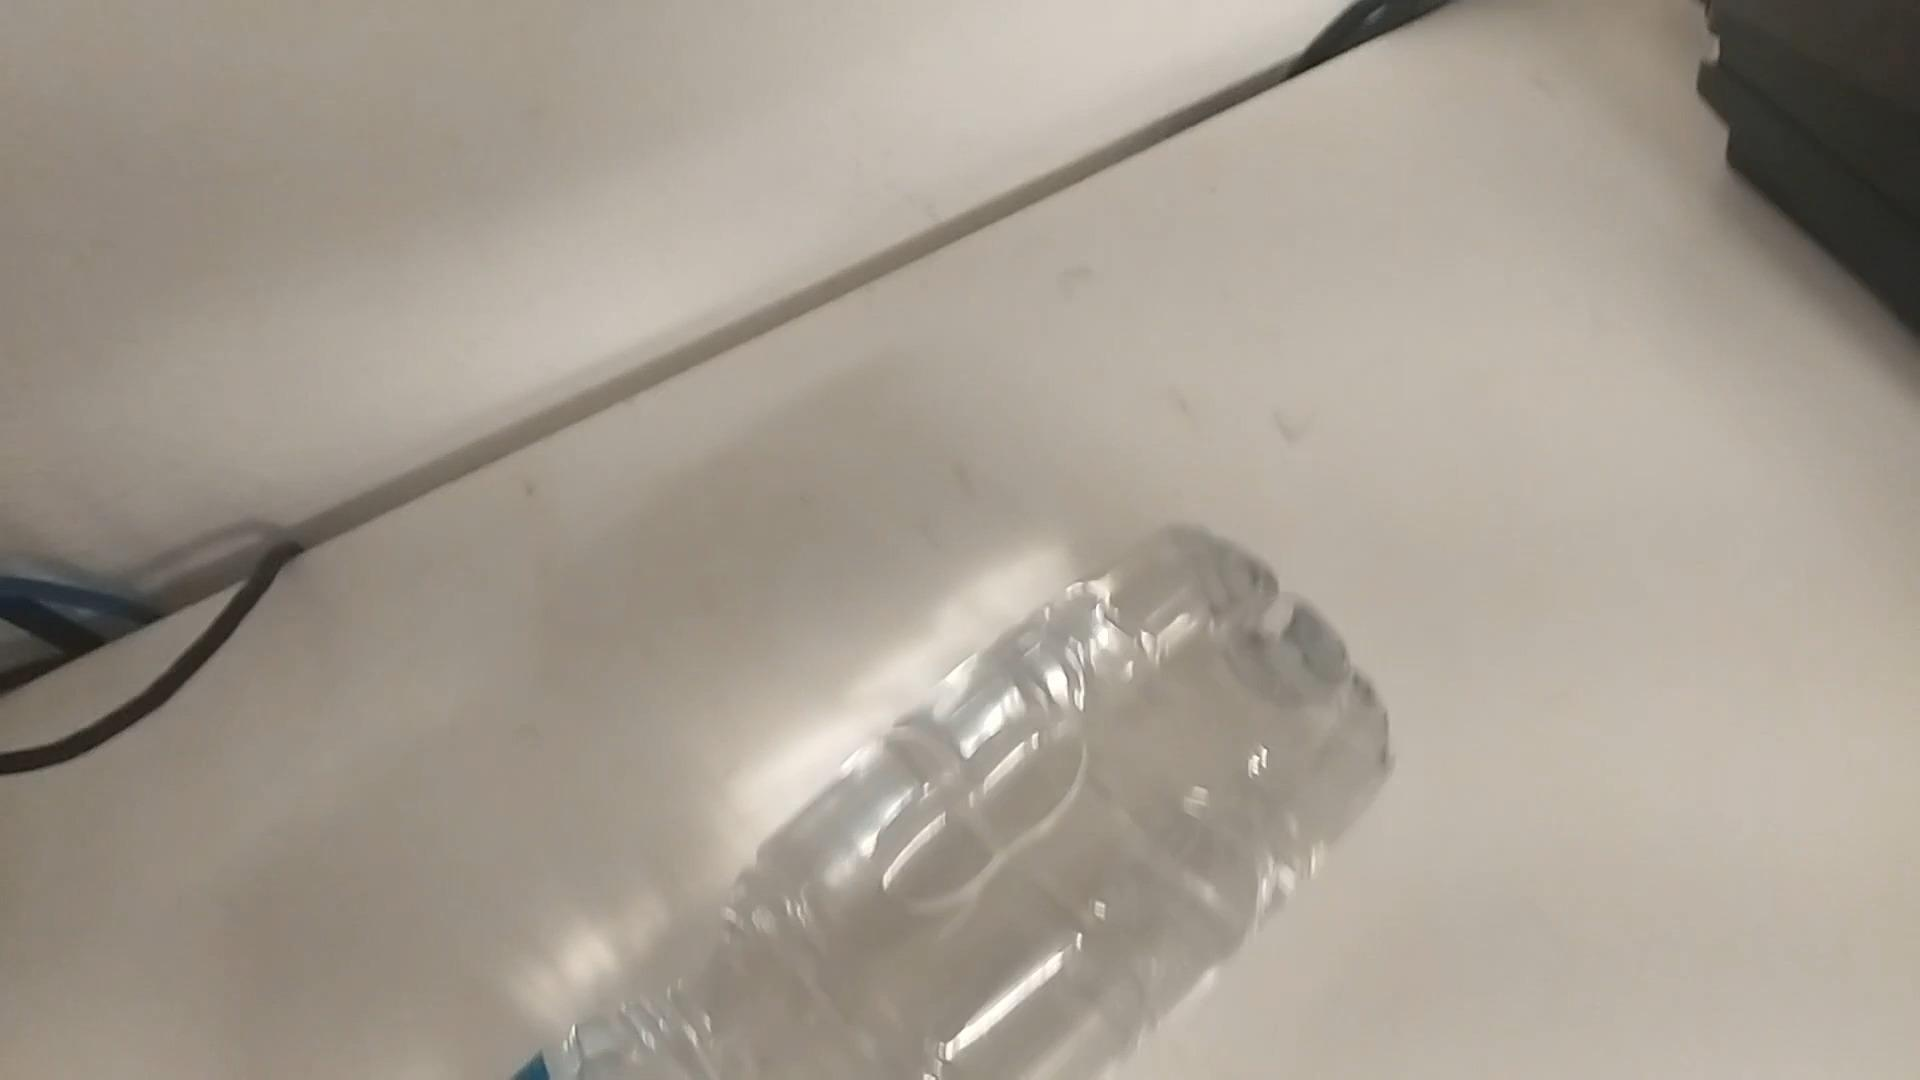agua: (501, 521, 1382, 1076)
